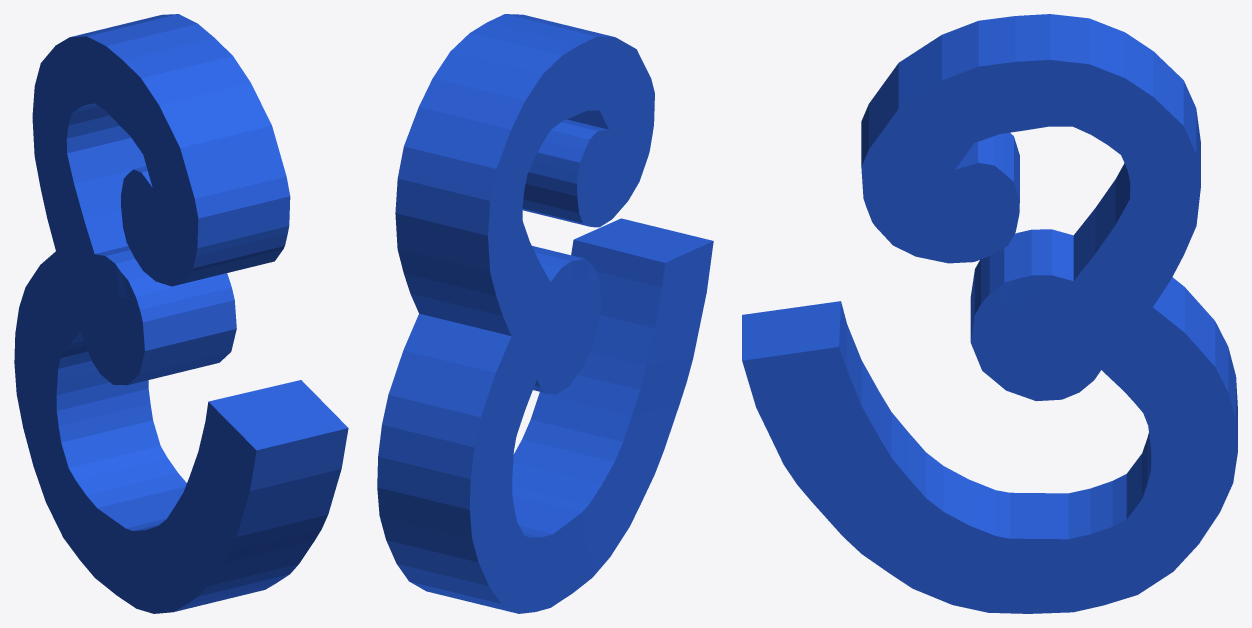
3 renders of one model, left to right at view 1: azimuth 30°, elevation 25°; view 2: azimuth 150°, elevation 25°; view 3: azimuth 270°, elevation 25°, orthographic. The views are drawn at different scales.
Parts seen in each view (by area): view 1: Cube; view 2: Cube; view 3: Cube.
Boxes of the visible parts, <box> form: Cube: <box>14,14,348,613</box>; Cube: <box>377,14,713,613</box>; Cube: <box>742,14,1237,613</box>.
Bounding box in the file's own units: 168 × 936 × 759.
